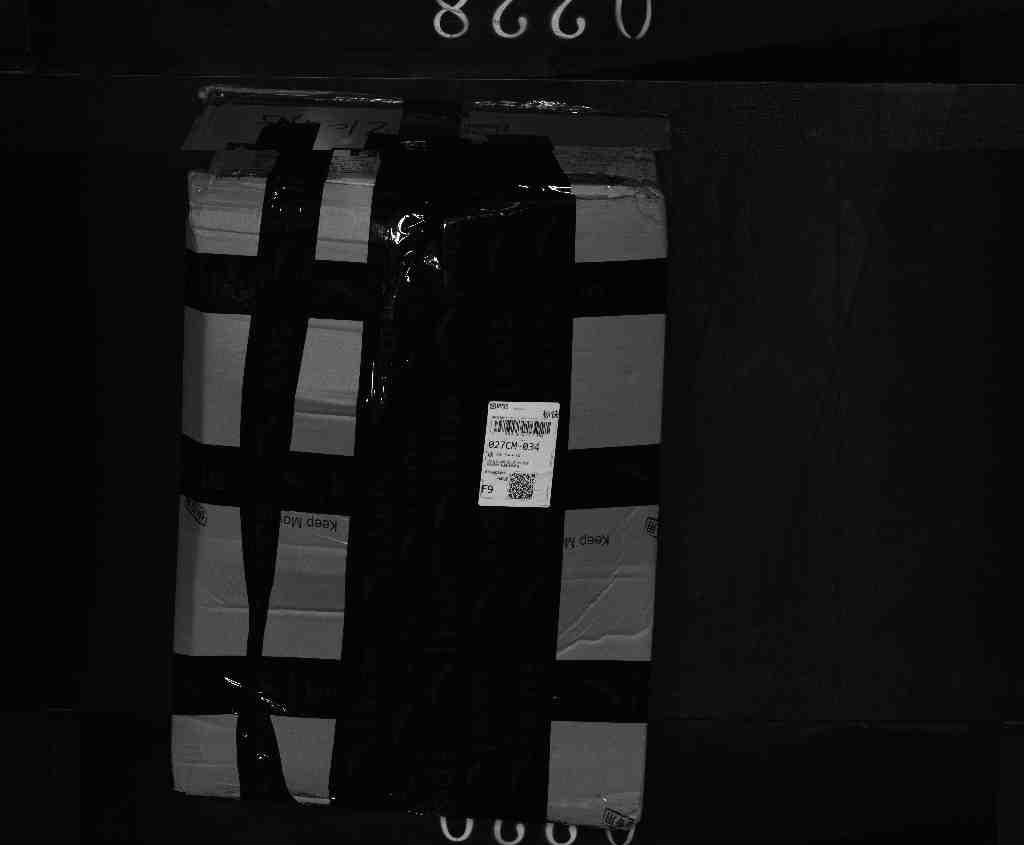box: (121, 69, 678, 840)
